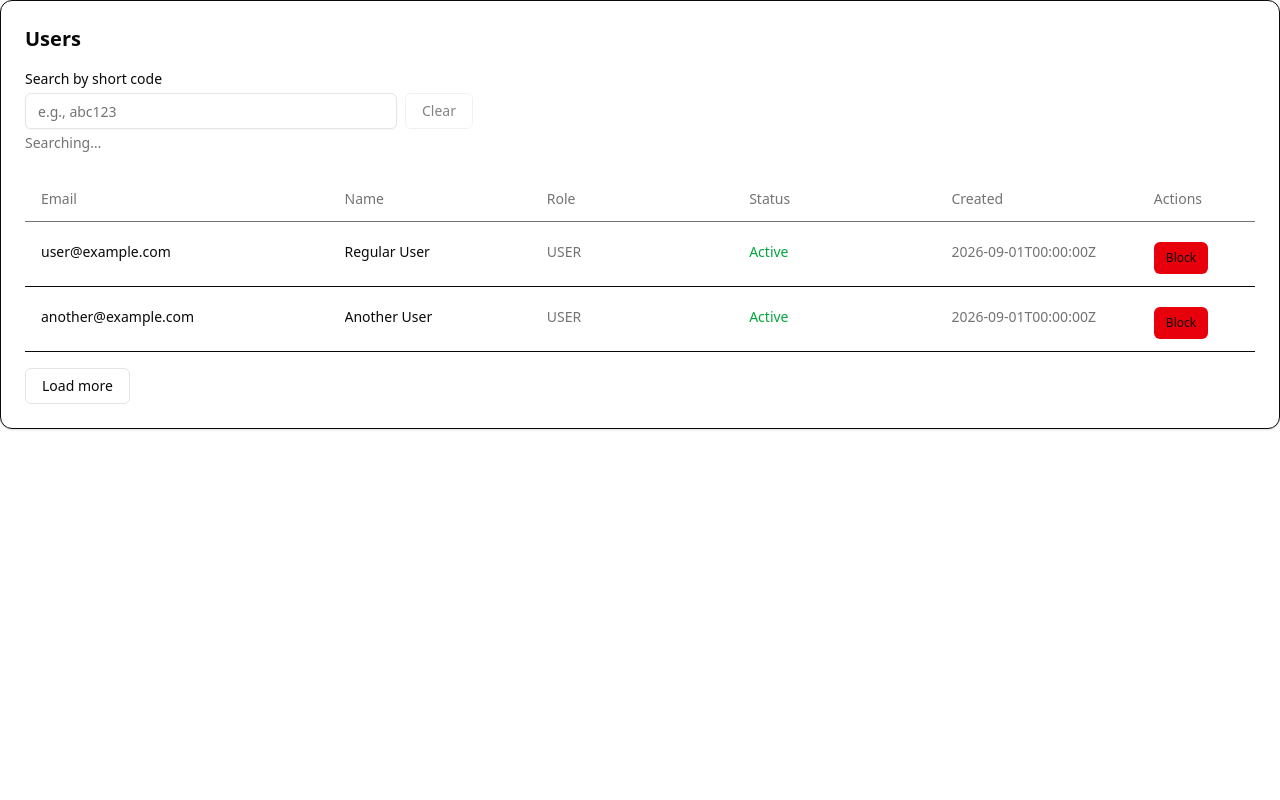
Scenario: UsersPage (admin) › code search shows results
Check: the link "user@example.com" is shown, box [41, 242, 171, 261]
In the field labelled "Search by short code": (211, 111) [25, 93, 397, 129], type "abc123"
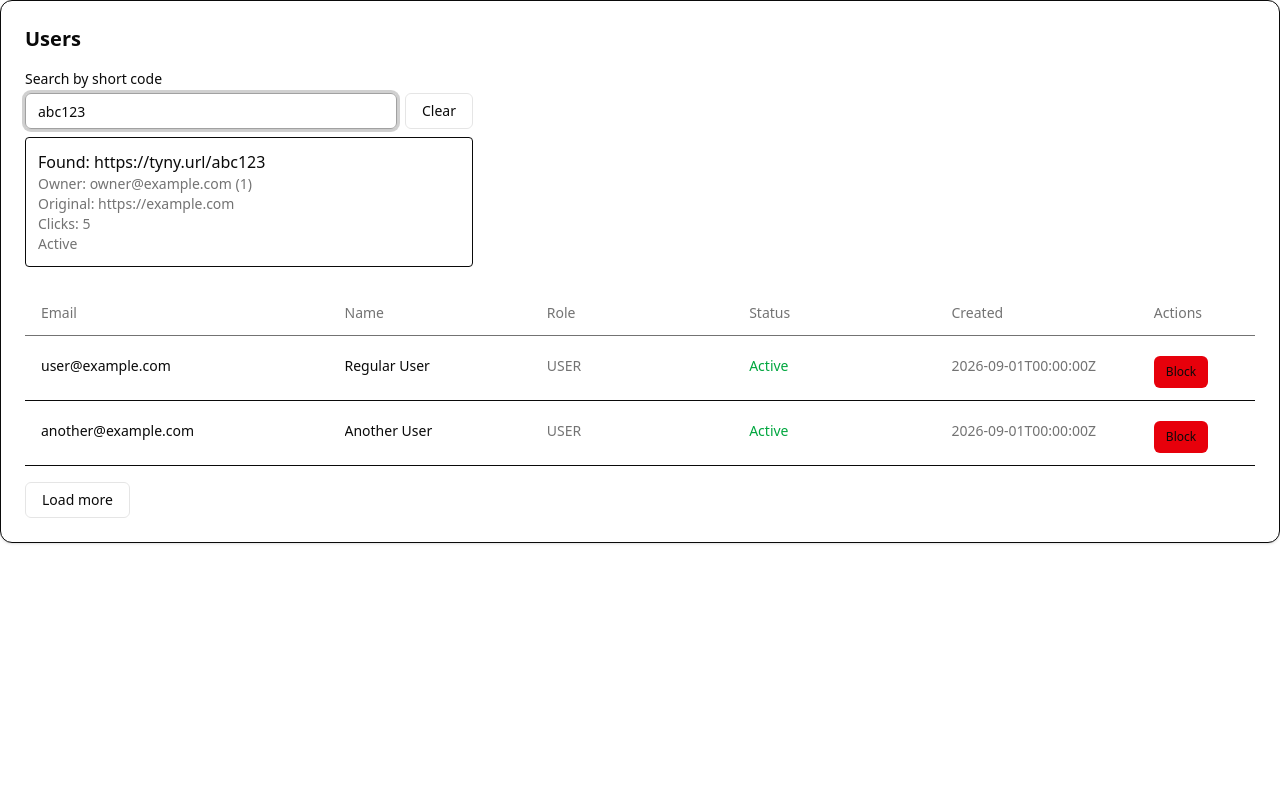
Check: the text "Found: https://tyny.url/abc123" is shown, box [38, 151, 265, 173]
Check: the text "Owner: owner@example.com (1)" is shown, box [38, 174, 252, 193]
